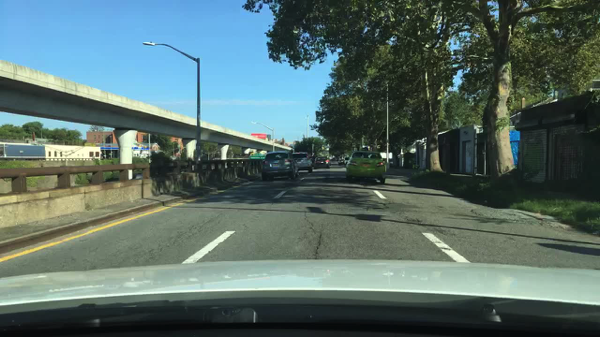car: (345, 151, 387, 184), (260, 151, 298, 182), (291, 152, 313, 174), (314, 156, 331, 170), (337, 154, 351, 165), (308, 156, 317, 164)
traffic sign: (251, 133, 266, 139), (249, 155, 266, 160), (251, 154, 262, 156)
